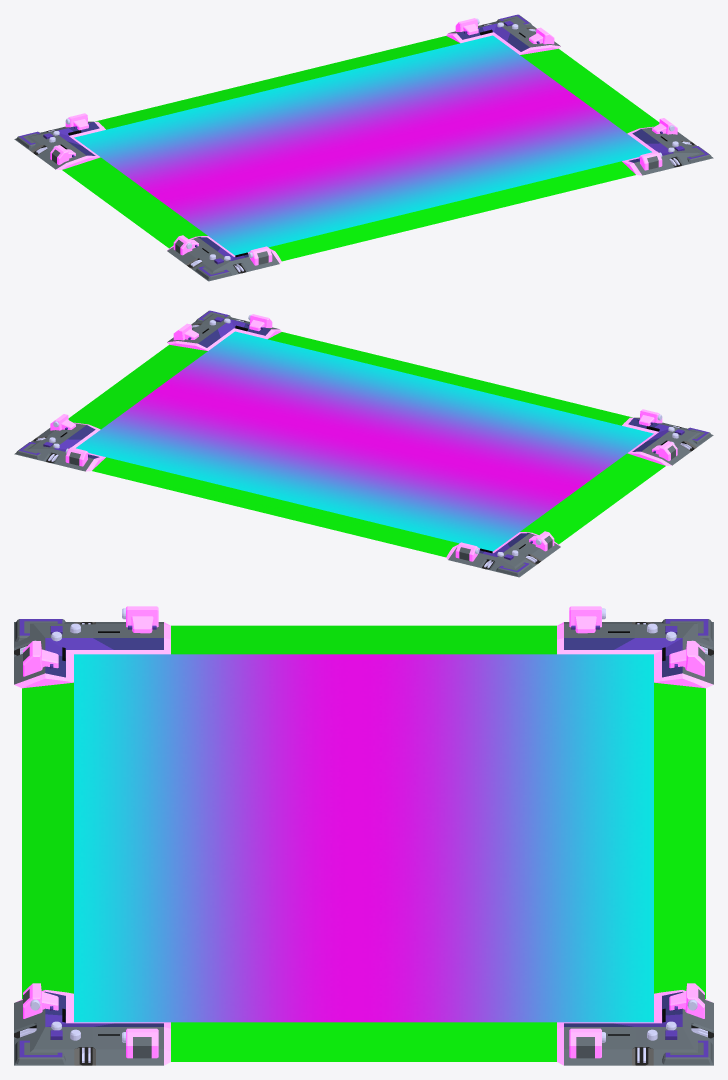
File: NFT_basic_6x4.fbx
3 renders of one model, top to bottom at view 1: azimuth 30°, elevation 25°; view 2: azimuth 150°, elevation 25°; view 3: azimuth 270°, elevation 25°, orthographic. The views are drawn at different scales.
Parts seen in each view (by area): view 1: _screen_low, walkways; view 2: _screen_low, walkways; view 3: _screen_low, walkways.
Boxes of the visible parts, x1=… form: _screen_low: x1=74, y1=35, x2=651, y2=255; walkways: x1=14, y1=14, x2=713, y2=281; _screen_low: x1=76, y1=331, x2=653, y2=551; walkways: x1=14, y1=310, x2=713, y2=577; _screen_low: x1=74, y1=654, x2=653, y2=1022; walkways: x1=14, y1=606, x2=713, y2=1065.
Bounding box in the file's own units: 236 × 6.1 × 157.
10 materials, 1 textured.
